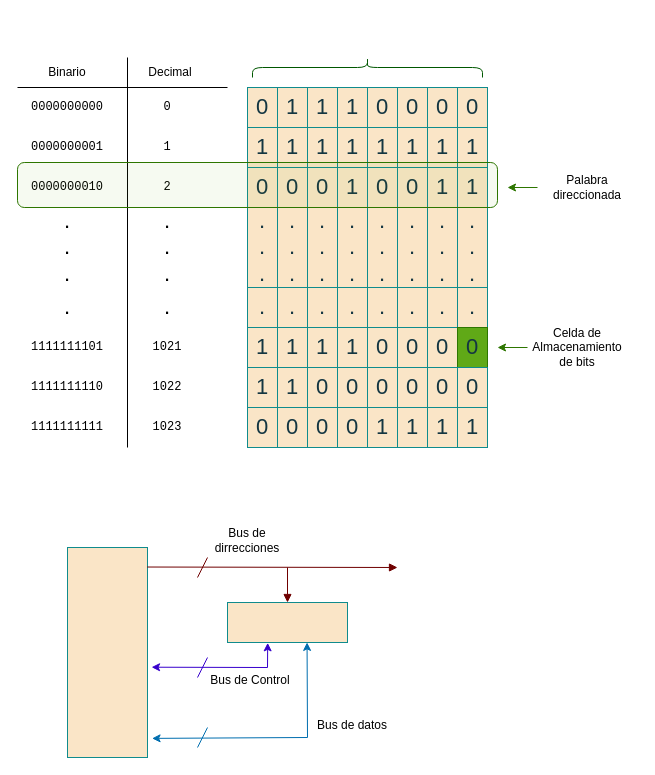
Some shapes in this 655 by 775 pixel diagram are drawn without their labels. Each missing label, with the centre of its shape:
CPU: (x=107, y=652)
Largo de Palabra (8 bits): (x=367, y=67)
Memoria: (x=287, y=622)
